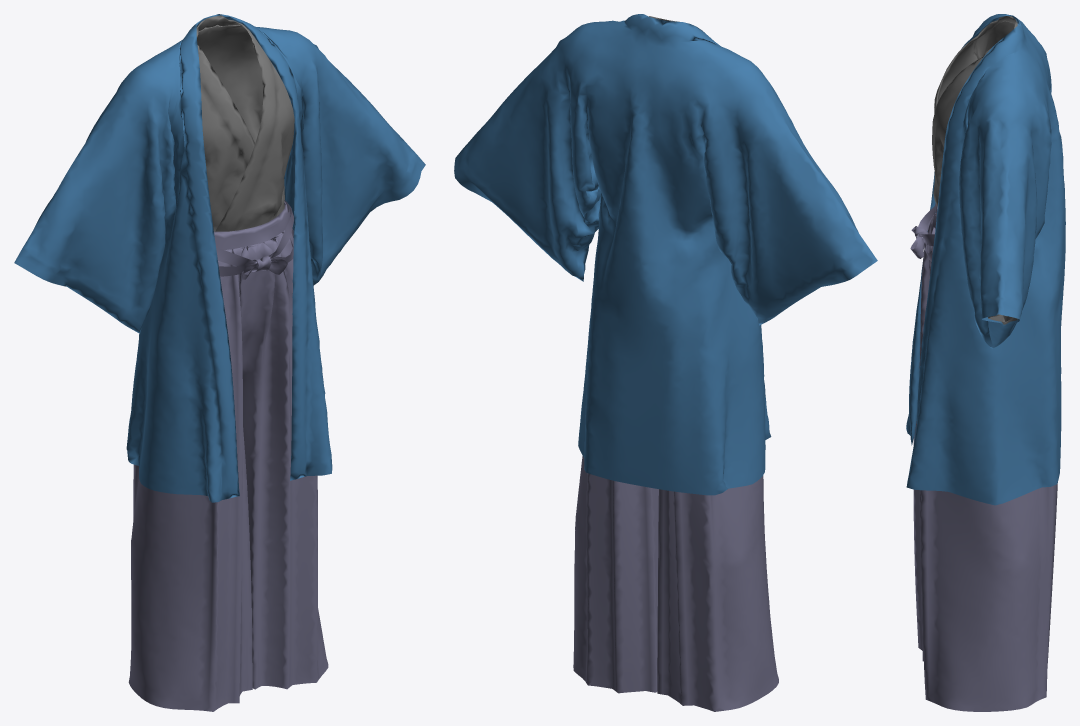
The model's file is Hakama.fbx.
The picture shows the model from 3 angles, left to right: view 1: azimuth 30°, elevation 25°; view 2: azimuth 150°, elevation 25°; view 3: azimuth 270°, elevation 25°; orthographic projection. The views are drawn at different scales.
Visible parts, largest first — view 1: Haori, Hakama, Jinbei; view 2: Haori, Hakama; view 3: Haori, Hakama, Jinbei.
Part boxes in pixels (x1,y1,x2,y2): Haori: [14, 14, 425, 502]; Hakama: [128, 200, 328, 711]; Jinbei: [196, 15, 294, 231]; Haori: [454, 14, 877, 495]; Hakama: [573, 456, 778, 711]; Haori: [906, 14, 1065, 505]; Hakama: [910, 203, 1057, 711]; Jinbei: [932, 16, 1017, 324].
Size of the model in its own units: 108 by 163 by 36.25.
